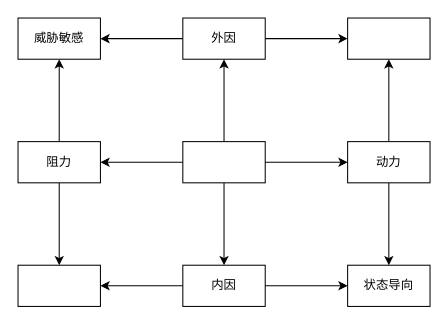
Some shapes in this 448 by 324 pixel diagram are drawn without their labels. Here are the shapes that lost their labels. From the top down, the centre of each, then its label:
the point at 388,38: 反馈缺失
the point at 223,162: 行动力
the point at 58,285: 需求稳定
